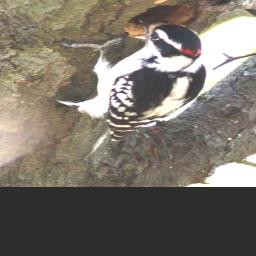Woodpecker: (56, 18, 206, 150)
